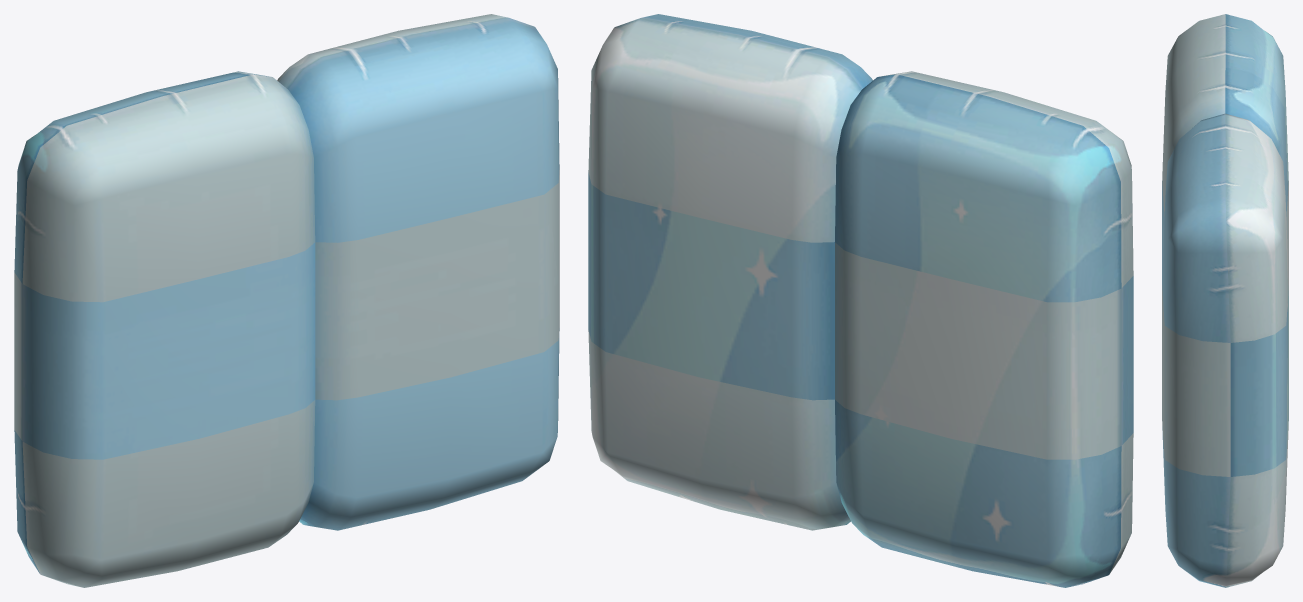
Rendered from PlatinumBeachBlob.fbx.
3 renders of one model, left to right at view 1: azimuth 30°, elevation 25°; view 2: azimuth 150°, elevation 25°; view 3: azimuth 270°, elevation 25°, orthographic. The views are drawn at different scales.
Parts seen in each view (by area): view 1: PlatinumBeachBlob; view 2: PlatinumBeachBlob; view 3: PlatinumBeachBlob.
Boxes of the visible parts, x1=… form: PlatinumBeachBlob: x1=14, y1=14, x2=559, y2=587; PlatinumBeachBlob: x1=588, y1=14, x2=1133, y2=587; PlatinumBeachBlob: x1=1162, y1=14, x2=1288, y2=587.
Bounding box in the file's own units: 505 × 433 × 124.
